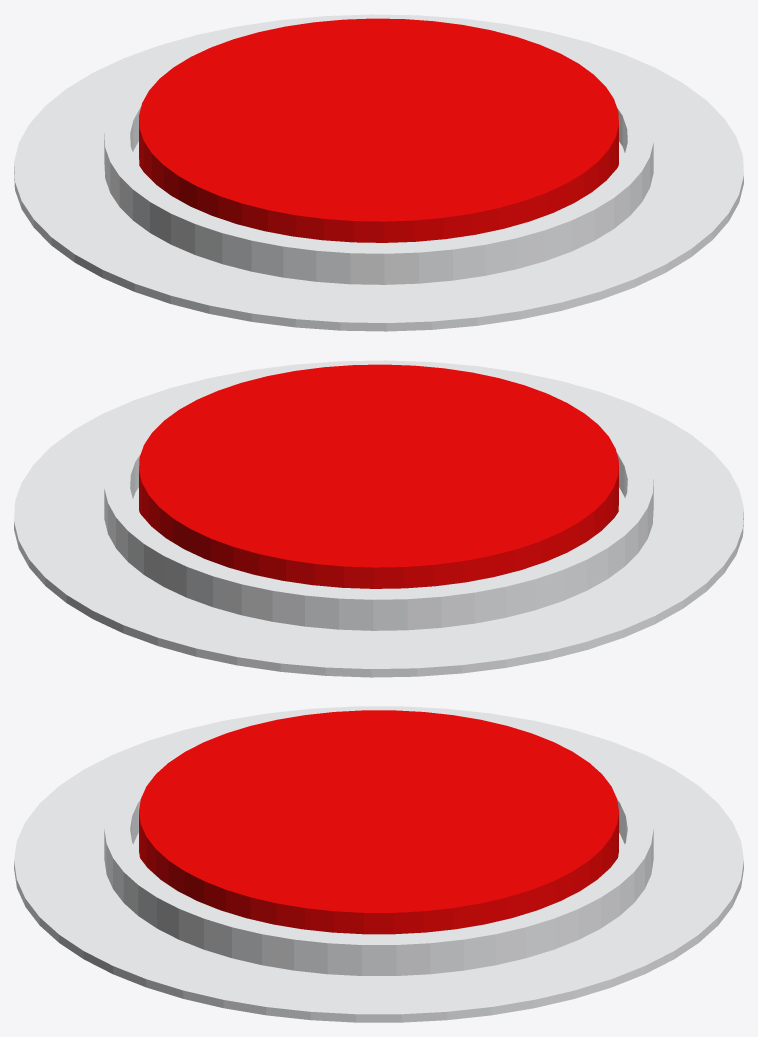
Rendered from kırmızıdugme.fbx.
3 renders of one model, top to bottom at view 1: azimuth 30°, elevation 25°; view 2: azimuth 150°, elevation 25°; view 3: azimuth 270°, elevation 25°, orthographic.
Parts seen in each view (by area): view 1: Cylinder.048, Cylinder.049; view 2: Cylinder.048, Cylinder.049; view 3: Cylinder.048, Cylinder.049.
Part boxes in pixels (x1,y1,x2,y2): Cylinder.048: (14, 14, 743, 331); Cylinder.049: (139, 18, 618, 242); Cylinder.048: (14, 360, 743, 677); Cylinder.049: (139, 364, 618, 588); Cylinder.048: (14, 706, 743, 1022); Cylinder.049: (139, 710, 618, 934).
Size of the model in its own units: 800 by 801 by 69.13.
